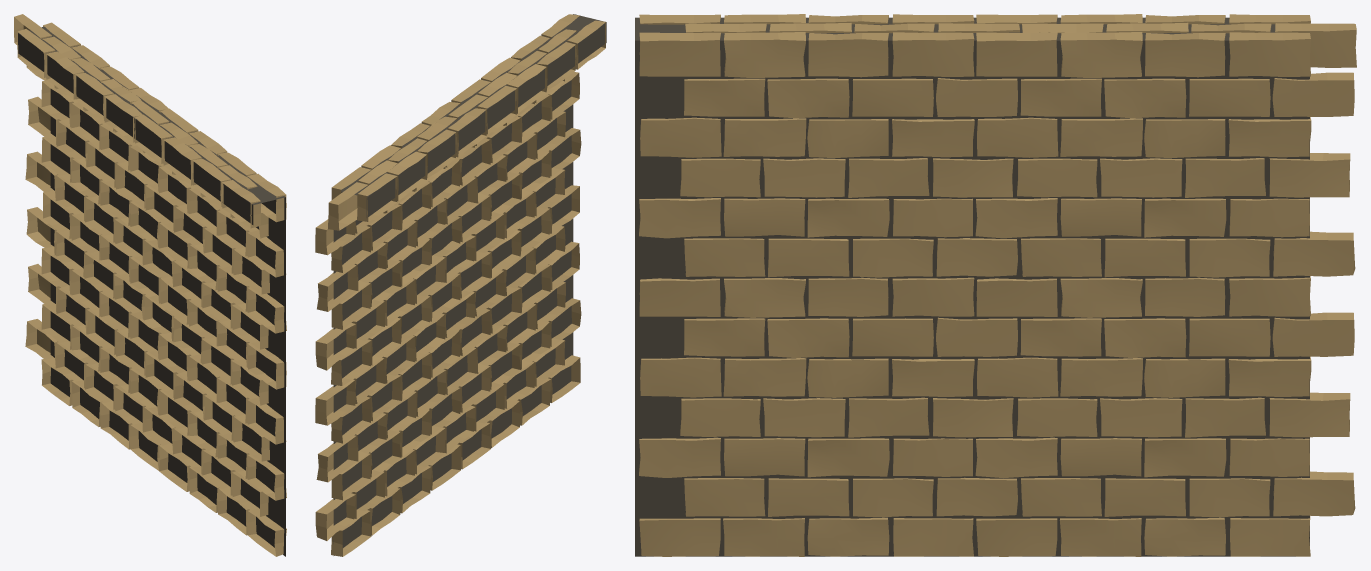
File: Wall.fbx
The picture shows the model from 3 angles, left to right: view 1: azimuth 30°, elevation 25°; view 2: azimuth 150°, elevation 25°; view 3: azimuth 270°, elevation 25°; orthographic projection. The views are drawn at different scales.
Parts seen in each view (by area): view 1: Plane; view 2: Plane; view 3: Plane.
Part boxes in pixels (box(x1,y1,x2,y2)): Plane: box(14, 14, 286, 556); Plane: box(315, 14, 606, 556); Plane: box(635, 14, 1356, 556).
Size of the model in its own units: 39.37 by 357 by 450.
